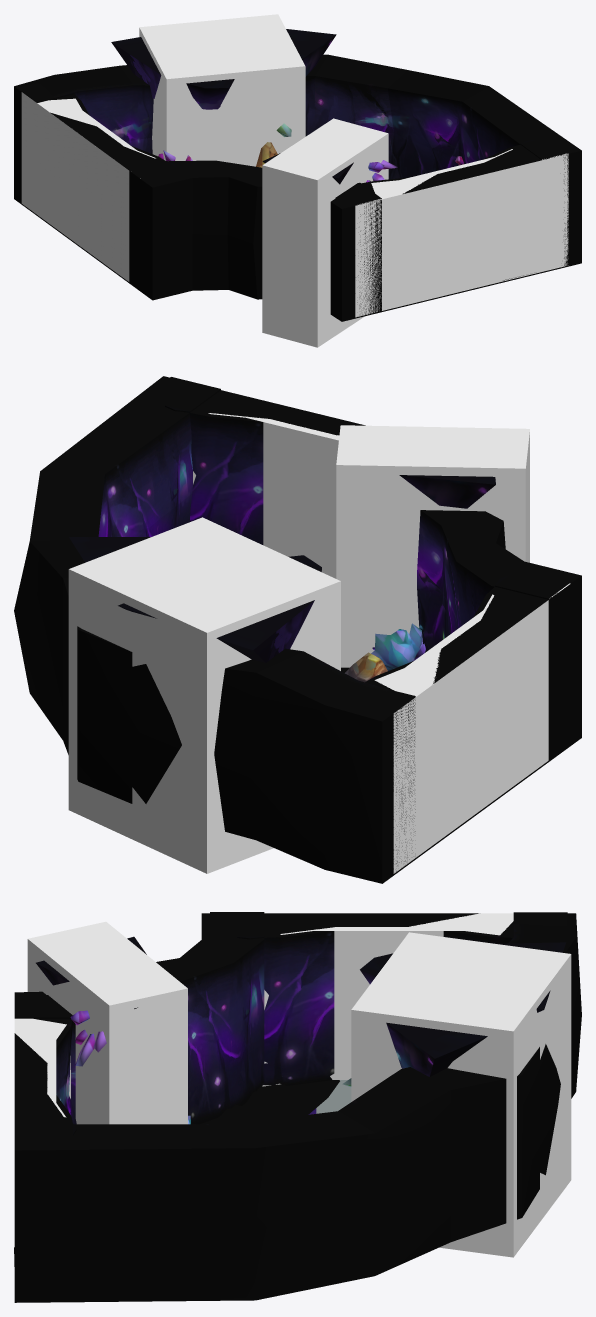
File: Dungeon_101_RoadL_002.fbx
3 views of the same model, one above another, from view 1: azimuth 30°, elevation 25°; view 2: azimuth 150°, elevation 25°; view 3: azimuth 270°, elevation 25° (orthographic). The views are drawn at different scales.
Visible parts, largest first — view 1: Dun_101_RoadL_002_Wall, DoorWay_NavMask (1) (×2), Cube_02, Cube_01, Dun_101_Door_002 (×2), Dun_101_RoadL_002_object_02, Dun_101_RoadL_002_object_01; view 2: Dun_101_RoadL_002_Wall, Cube_02, DoorWay_NavMask (1) (×2), Cube_01, Dun_101_Door_002 (×2), Dun_101_RoadL_002_object_02, Dun_101_RoadL_002_object_01, Dungeon_011_Object_013, DoorWay_NavMask (2); view 3: Dun_101_RoadL_002_Wall, Cube_02, Dun_101_Door_002 (×2), Cube_01, DoorWay_NavMask (1) (×2), Dun_101_RoadL_002_object_02, Dun_101_RoadL_002_shadow, DoorWay_NavMask (2) (×2), Dun_101_RoadL_002_object_01, Quad_Nav_SP (1).
Part boxes in pixels (<box>): Dun_101_RoadL_002_Wall: <box>14,54,581,321</box>; DoorWay_NavMask (1) (×2): <box>21,92,568,317</box>; Cube_02: <box>139,14,305,166</box>; Cube_01: <box>262,118,388,347</box>; Dun_101_Door_002 (×2): <box>17,82,575,311</box>; Dun_101_RoadL_002_object_02: <box>111,29,353,184</box>; Dun_101_RoadL_002_object_01: <box>158,123,463,182</box>; Dun_101_RoadL_002_Wall: <box>14,376,581,883</box>; Cube_02: <box>68,517,340,873</box>; DoorWay_NavMask (1) (×2): <box>247,417,570,873</box>; Cube_01: <box>336,425,529,667</box>; Dun_101_Door_002 (×2): <box>140,377,576,858</box>; Dun_101_RoadL_002_object_02: <box>69,475,495,662</box>; Dun_101_RoadL_002_object_01: <box>371,623,425,670</box>; Dungeon_011_Object_013: <box>345,652,387,682</box>; DoorWay_NavMask (2): <box>374,659,438,687</box>; Dun_101_RoadL_002_Wall: <box>14,913,581,1302</box>; Cube_02: <box>351,932,571,1257</box>; Dun_101_Door_002 (×2): <box>14,912,567,1145</box>; Cube_01: <box>27,921,187,1124</box>; DoorWay_NavMask (1) (×2): <box>14,913,513,1102</box>; Dun_101_RoadL_002_object_02: <box>36,936,565,1076</box>; Dun_101_RoadL_002_shadow: <box>14,1080,339,1266</box>; DoorWay_NavMask (2) (×2): <box>30,920,506,1098</box>; Dun_101_RoadL_002_object_01: <box>70,1010,351,1124</box>; Quad_Nav_SP (1): <box>316,1080,351,1113</box>.
Size of what is drawn, in the model's own units: 6.75 by 3 by 6.83.
